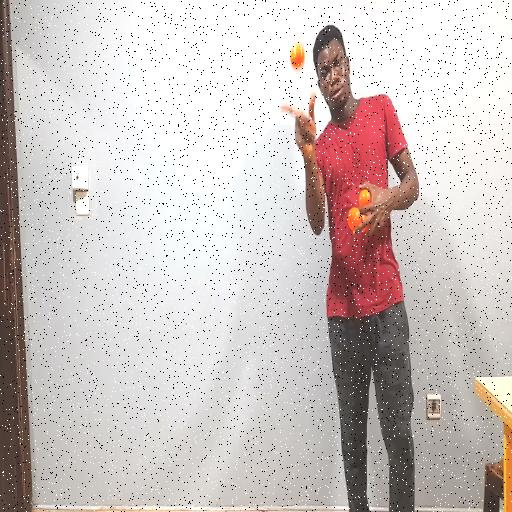plastic-ball: (287, 36, 307, 74)
